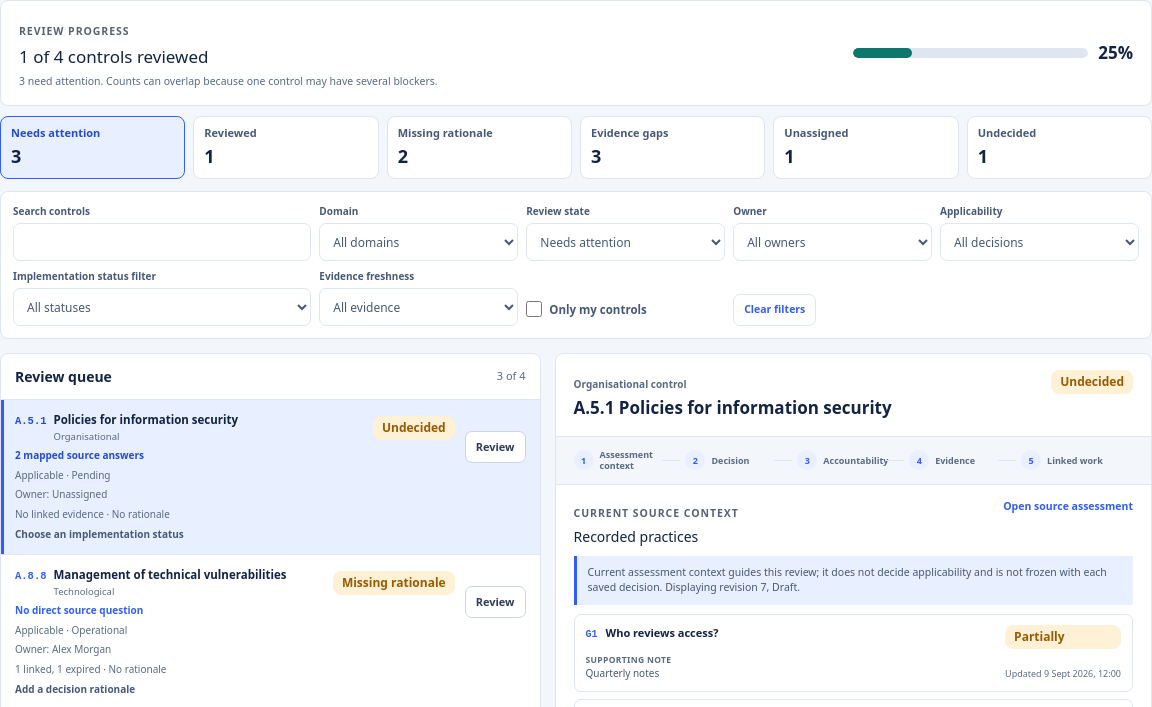
Scenario: SoaReviewWorkspace › reconciles a clean selection for Reviewed and search filters
Step 1. Click the button "Reviewed 1" → (286, 147), box [193,116,379,179]
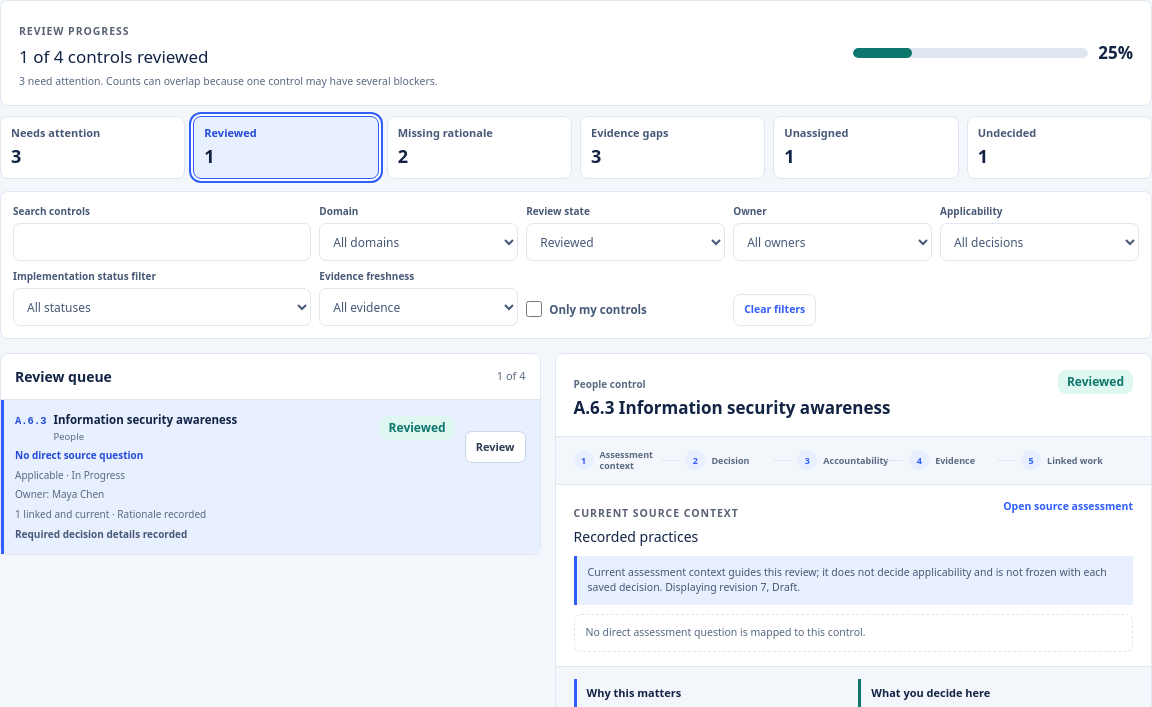
Now the heading "A.6.3 Information security awareness" is shown, box [574,397,890,420]
Step 2. Click the button "Clear filters" → (775, 310), box [733,294,816,326]
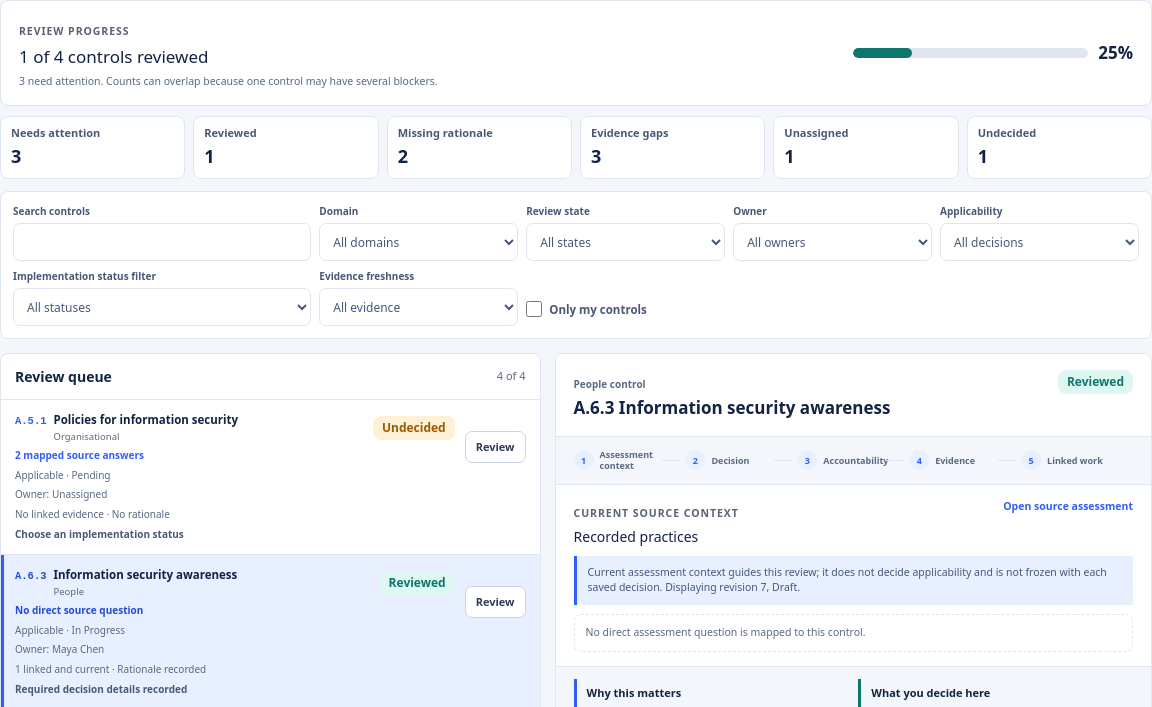
Now the heading "A.6.3 Information security awareness" is shown, box [574,397,890,420]
Step 3. Type "physical security" into the search field labelled "Search controls" → (162, 242), box [13,223,311,261]
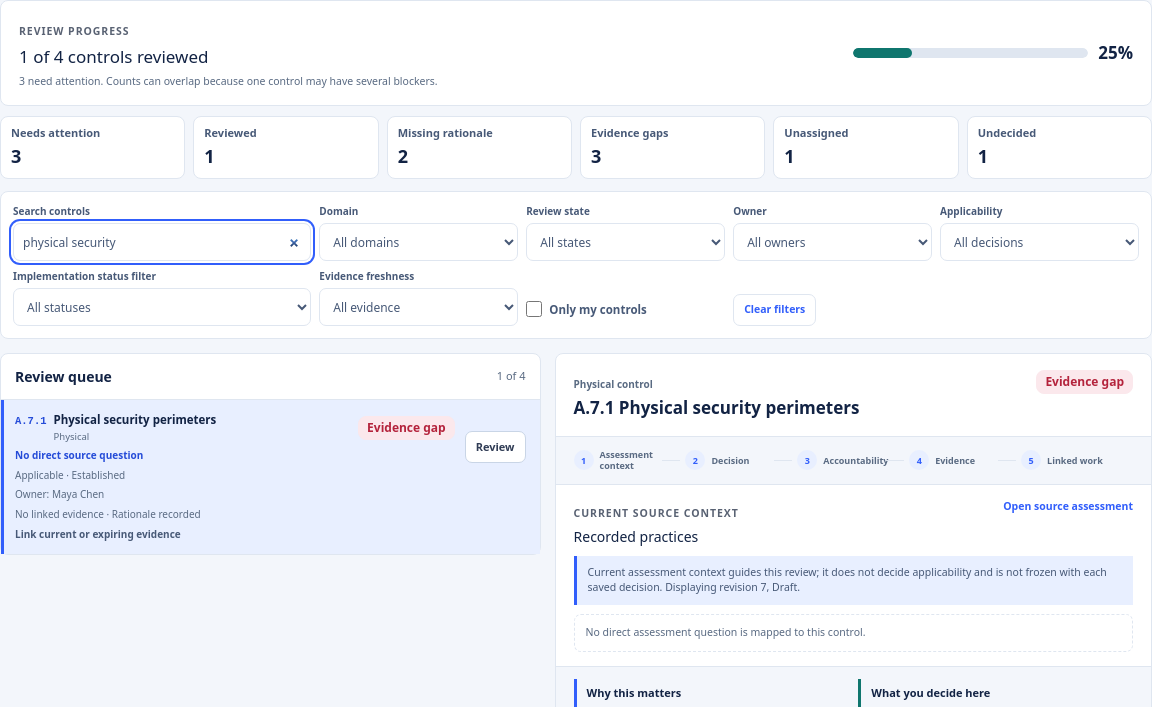
Now the heading "A.7.1 Physical security perimeters" is shown, box [574,397,859,420]
